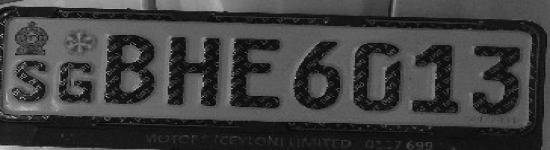0: (349, 35, 406, 117)
1: (404, 38, 467, 120)
3: (467, 39, 527, 121)
6: (290, 32, 349, 115)
B: (100, 30, 159, 108)
E: (224, 29, 288, 114)
G: (55, 59, 100, 108)
H: (165, 31, 226, 112)
S: (9, 58, 52, 108)
